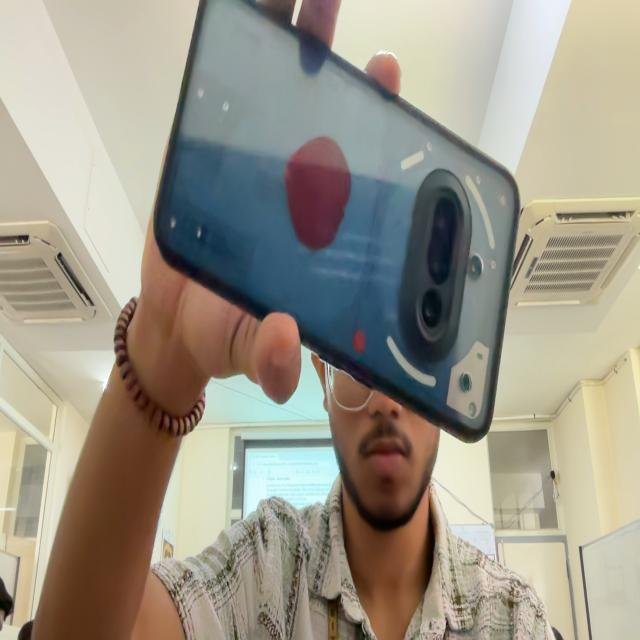Useful: (152, 0, 519, 441)
